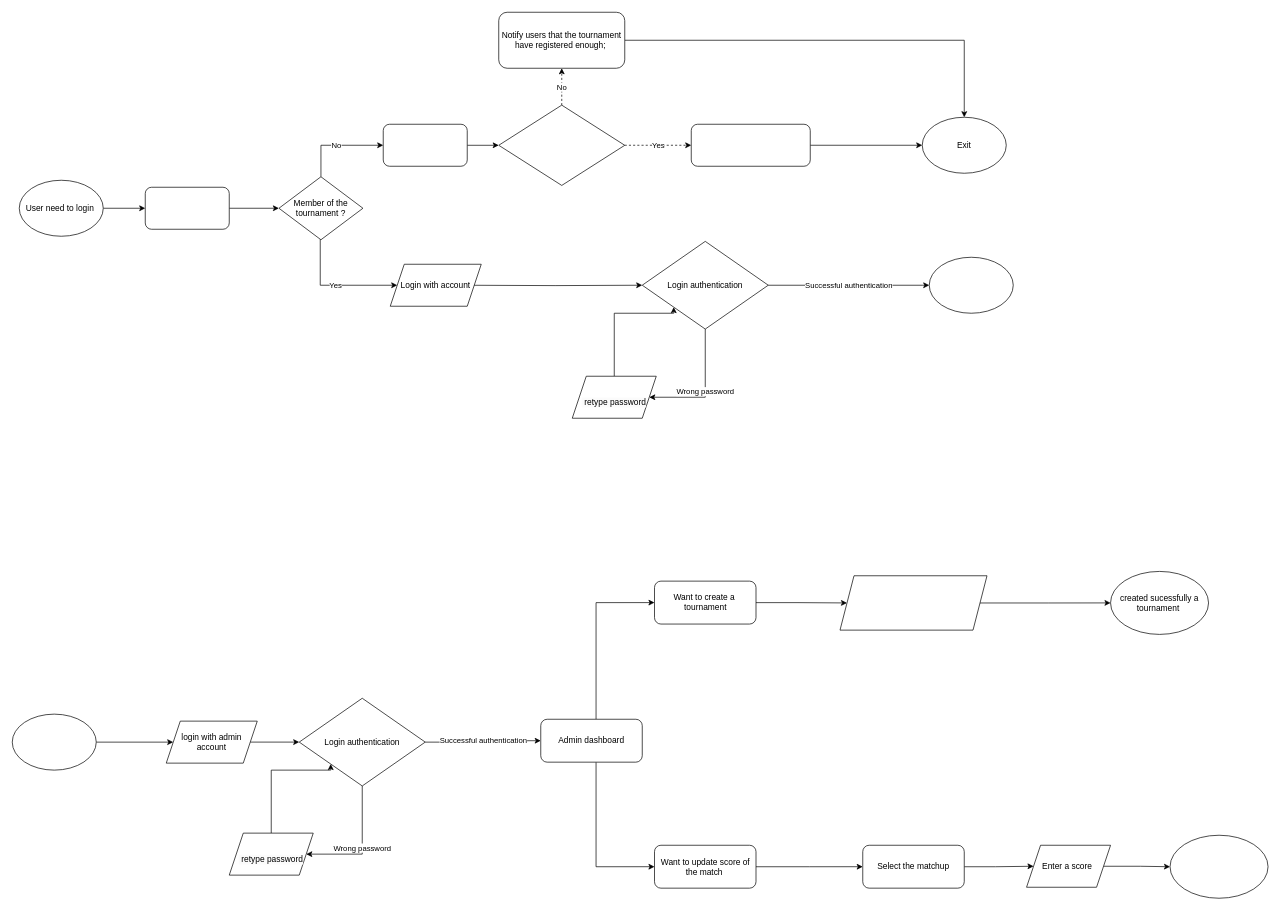
Some shapes in this 1280 by 911 pixel diagram are drawn without their labels. The shapes that lost their labels are listed below. From the top down, each one's box as (x1, y1, x2, y2) in pixels, then its label:
(383, 124, 467, 166): Register the tournament
(498, 104, 625, 185): any slots left in the tournament?
(691, 124, 810, 166): Contact the tournament organizer to register for an account
(145, 187, 229, 229): Login page
(929, 257, 1013, 313): Home page
(839, 575, 987, 630): Enter name, maximum total teams, prizes, rounds
(12, 713, 96, 770): The organizer need to login
(1169, 835, 1268, 898): Update sucesfully
